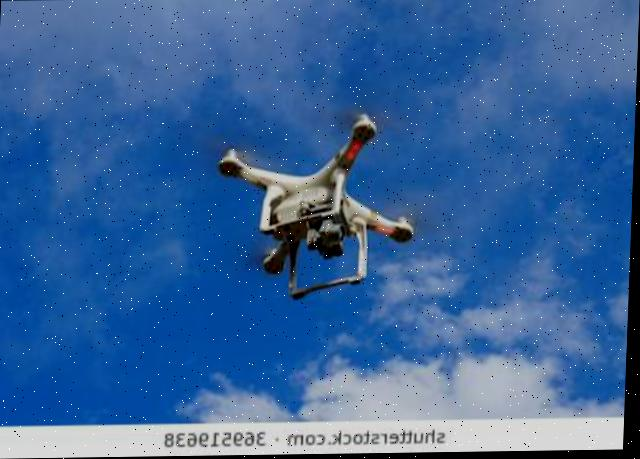drone: (197, 94, 429, 323)
